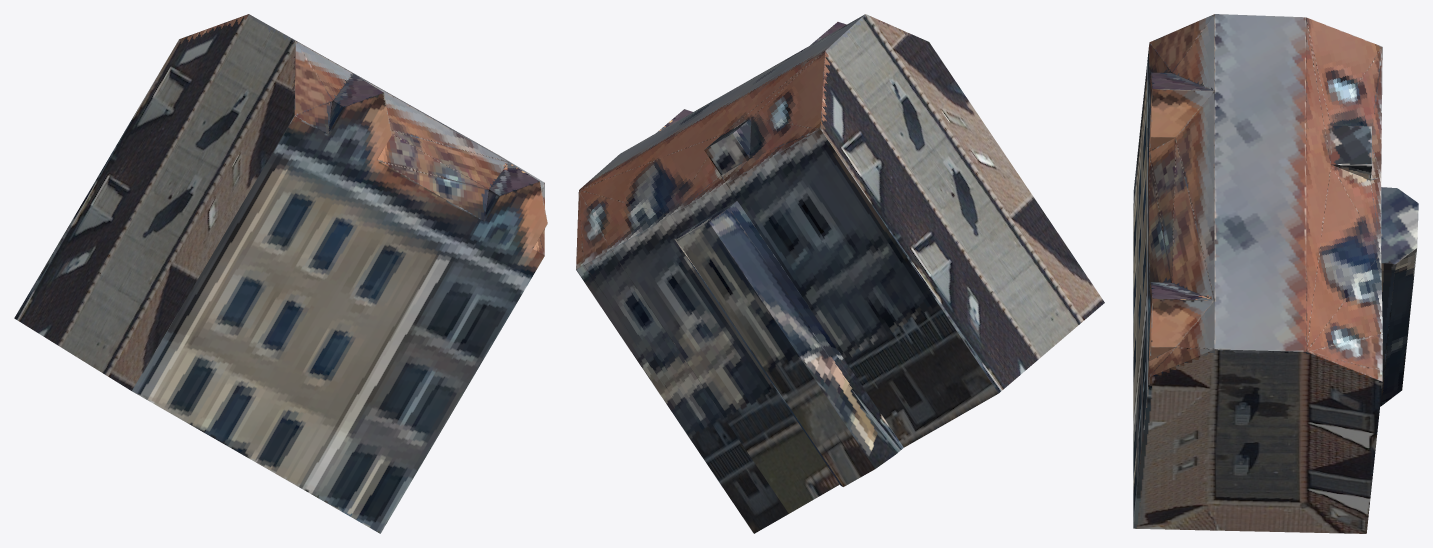
The picture shows the model from 3 angles, left to right: view 1: azimuth 30°, elevation 25°; view 2: azimuth 150°, elevation 25°; view 3: azimuth 270°, elevation 25°; orthographic projection. The views are drawn at different scales.
Parts seen in each view (by area): view 1: BAG_0599100000688742 (×4); view 2: BAG_0599100000688742 (×5); view 3: BAG_0599100000688742 (×6).
Part boxes in pixels (x1=…): BAG_0599100000688742 (×4): x1=14, y1=14, x2=547, y2=533; BAG_0599100000688742 (×5): x1=576, y1=14, x2=1104, y2=533; BAG_0599100000688742 (×6): x1=1133, y1=14, x2=1418, y2=533.
Size of the model in its own units: 17.54 by 17.7 by 9.16.
1 material, 1 textured.
